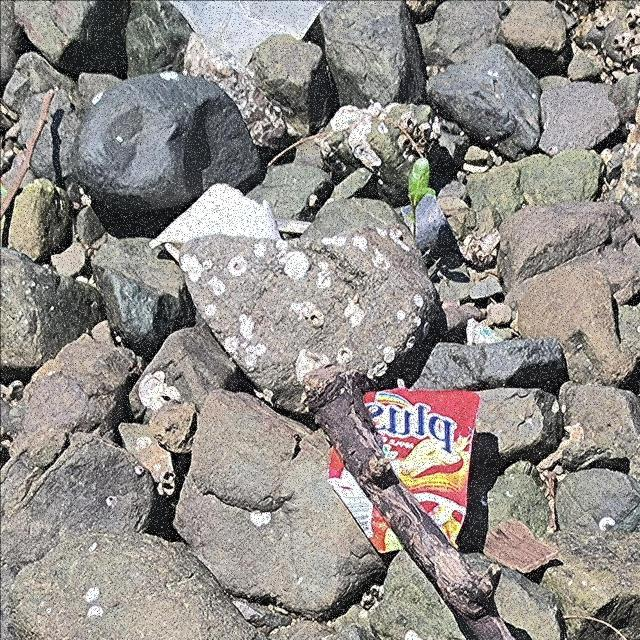plastic_waste: (328, 390, 480, 554)
